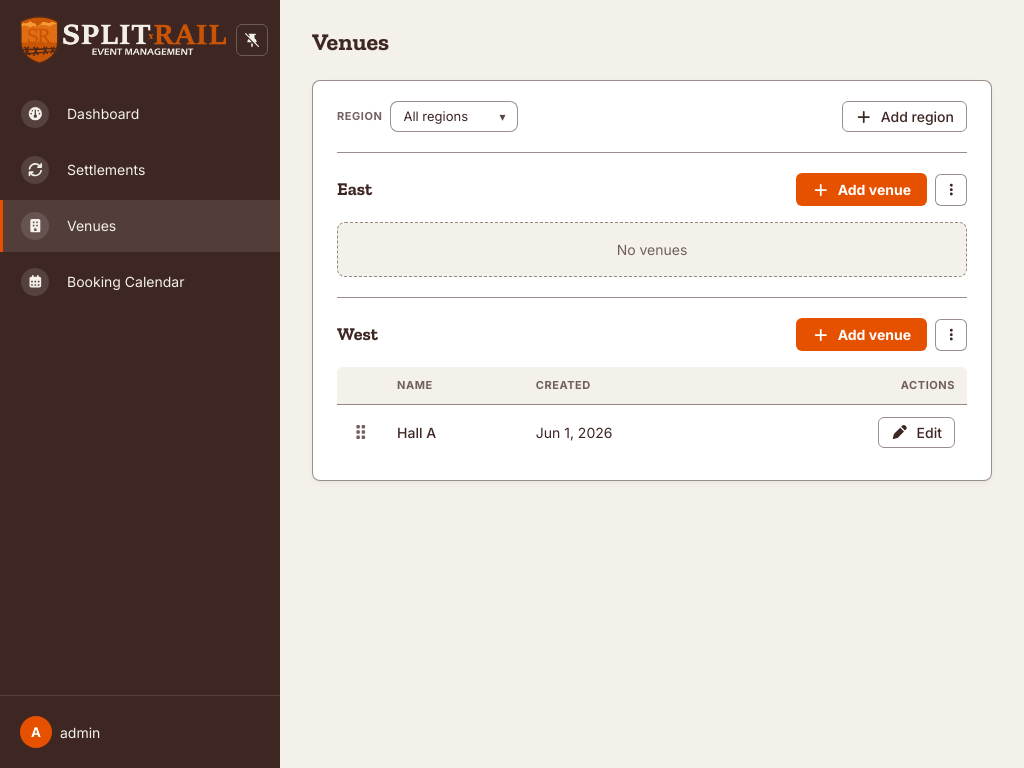
VenuesPage › does not delete an empty region when the confirm dialog is cancelled
Click the button named "Region actions for East".
click(951, 190)  # box [935,174,967,206]
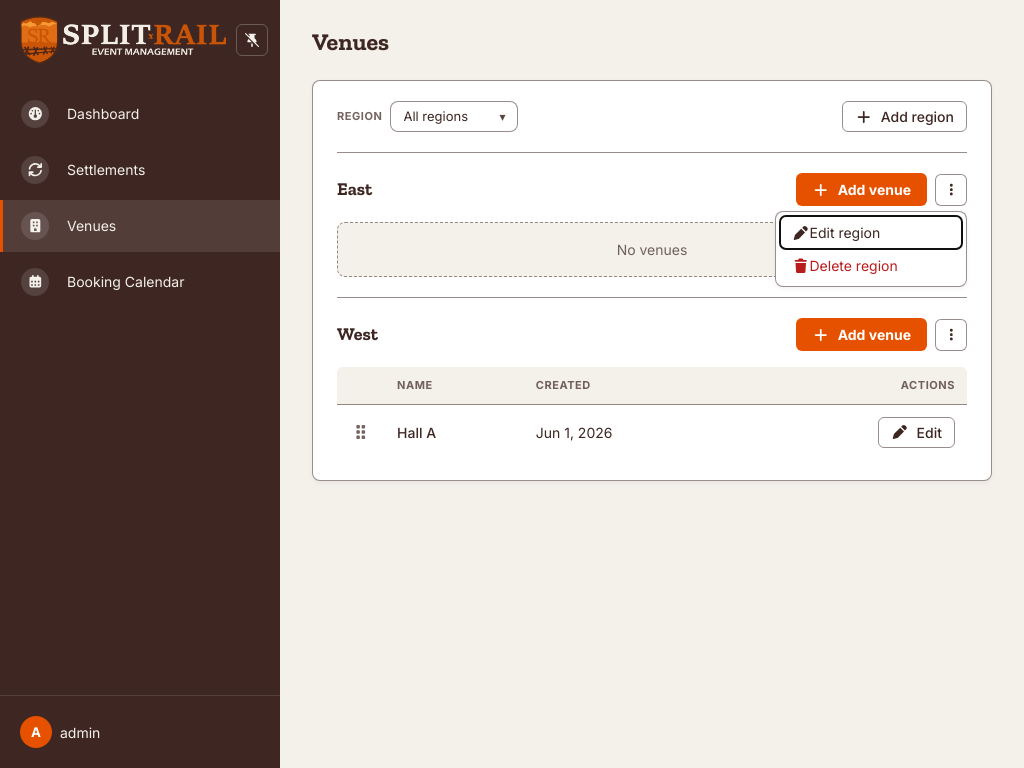
Click the menu item "Delete region".
click(871, 266)  # box [780,249,962,282]
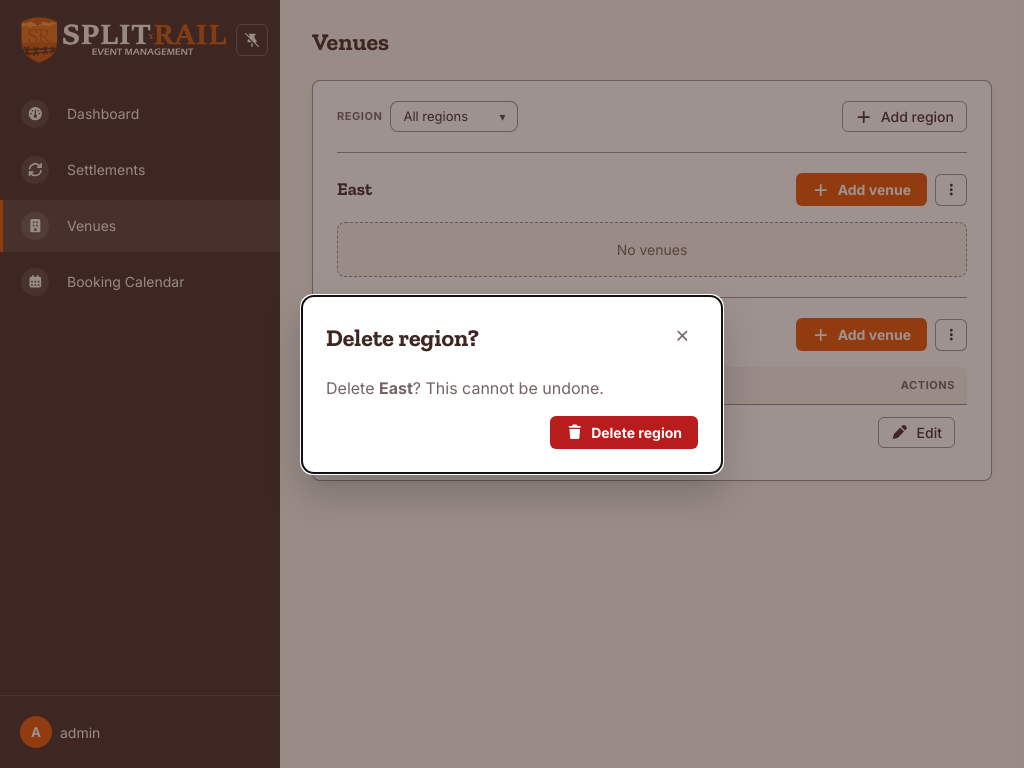
Click the button named "Close".
click(682, 336)  # box [666,320,698,352]
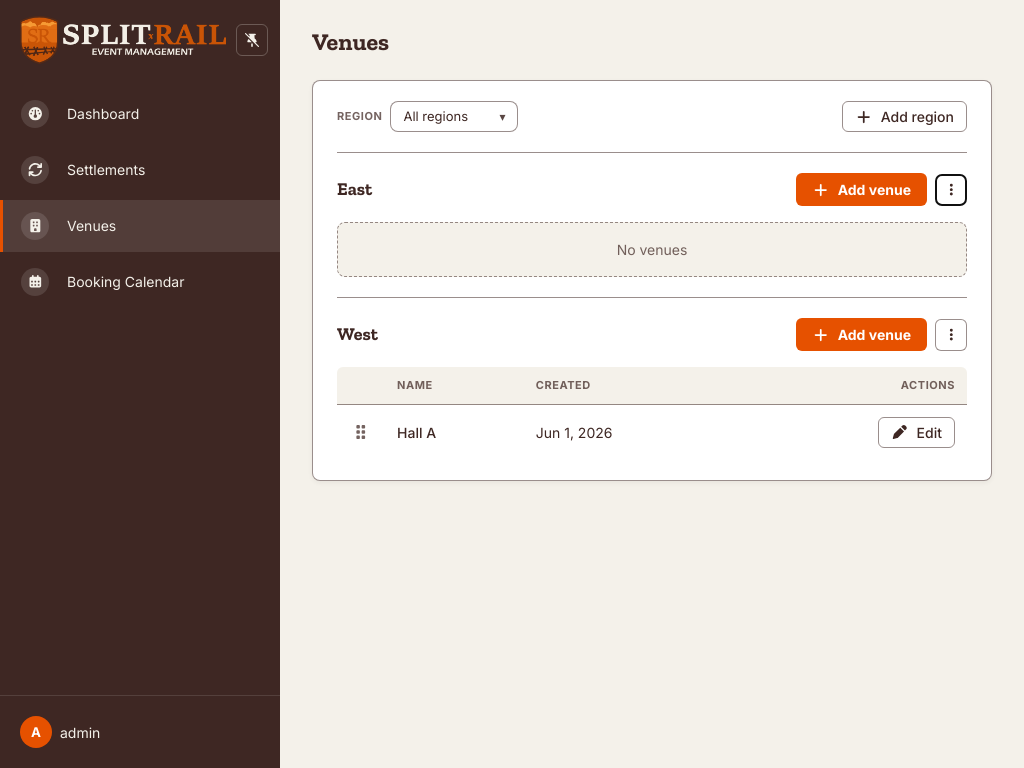
Expected: the dialog with test id "delete-region-confirm" is gone
